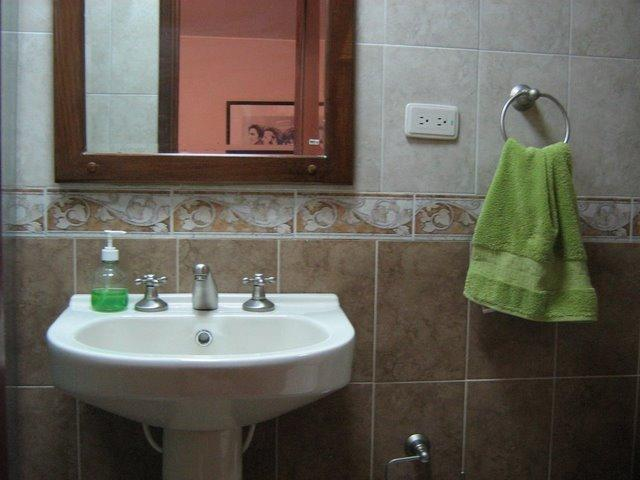Lavamanos: (60, 239, 361, 421)
